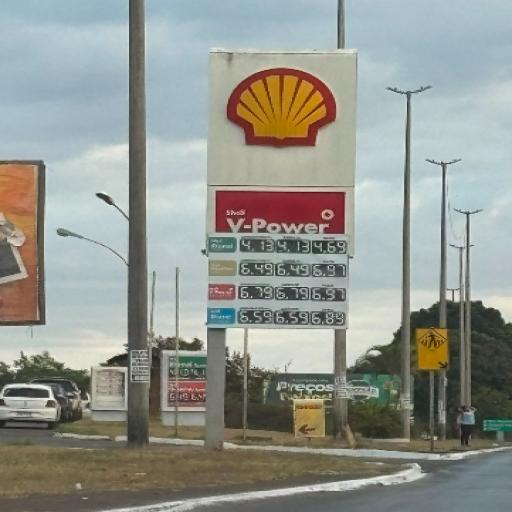ETANOL: (213, 237, 237, 251)
GASOLINA AD: (212, 284, 235, 302)
GASOLINA C: (211, 260, 235, 275)
S10: (210, 307, 235, 325)
placa: (210, 50, 354, 331)
preco: (238, 309, 271, 325), (241, 238, 276, 252), (240, 285, 275, 299), (242, 261, 272, 276)
